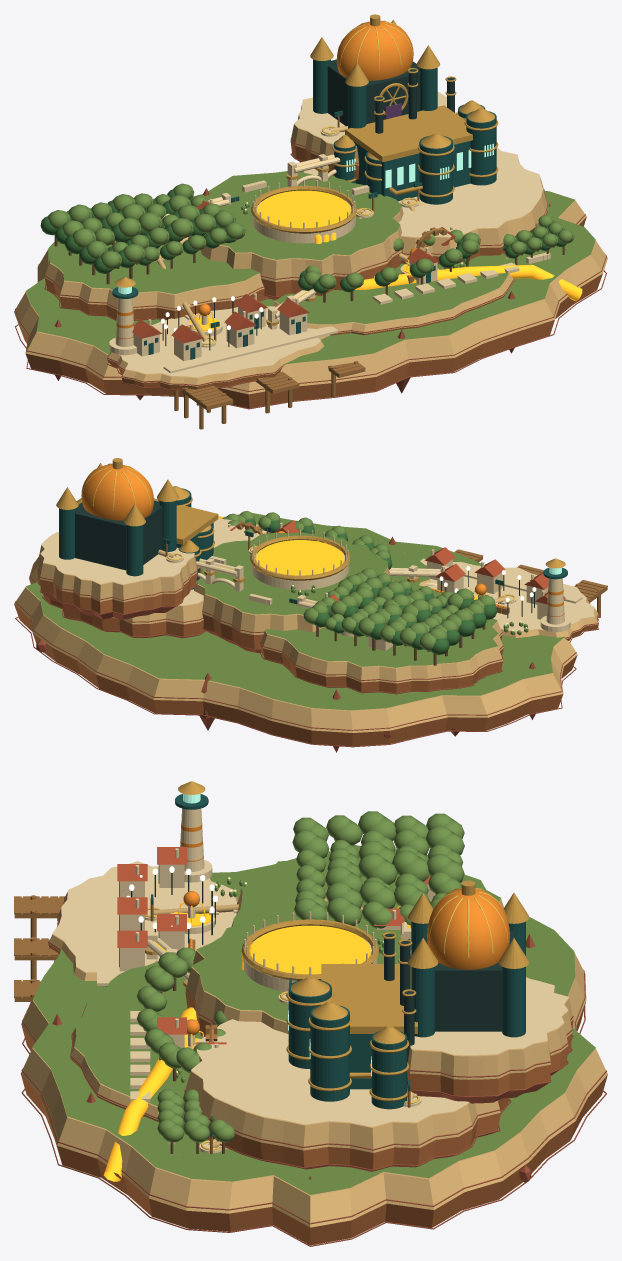
Rendered from imperio-delicia.glb.
3 renders of one model, top to bottom at view 1: azimuth 30°, elevation 25°; view 2: azimuth 150°, elevation 25°; view 3: azimuth 270°, elevation 25°, orthographic. The views are drawn at different scales.
Parts seen in each view (by area): view 1: Great citrus island foundation, Great citrus island foundation turf, Aqueduct heart turf, Refinery foothill turf, Orange delta turf, Terraced orchard, Terraced orchard turf, Aqueduct heart, Harbor terrace turf, Refinery tiled roof, Guina gigantic orange dome, Reservoir orange water (+20 smaller); view 2: Great citrus island foundation, Great citrus island foundation turf, Terraced orchard, Guina crown rock, Aqueduct heart turf, Terraced orchard turf, Guina citadel hall, Aqueduct heart, Guina gigantic orange dome, Refinery foothill, Harbor terrace turf, Guina crown rock turf (+16 smaller); view 3: Great citrus island foundation, Great citrus island foundation turf, Refinery foothill, Refinery foothill turf, Guina crown rock, Orange delta turf, Harbor terrace turf, Guina gigantic orange dome, Aqueduct heart turf, Guina citadel hall, Reservoir orange water, Refinery tiled roof (+19 smaller).
Part boxes in pixels (x1,y1,x2,y2): Great citrus island foundation: (14, 200, 607, 408); Great citrus island foundation turf: (25, 171, 595, 364); Aqueduct heart turf: (204, 172, 401, 260); Refinery foothill turf: (304, 147, 542, 236); Orange delta turf: (275, 253, 514, 324); Terraced orchard: (44, 258, 267, 320); Terraced orchard turf: (50, 241, 260, 293); Aqueduct heart: (188, 206, 403, 299); Harbor terrace turf: (121, 306, 321, 377); Refinery tiled roof: (345, 105, 472, 162); Guina gigantic orange dome: (336, 21, 413, 80); Reservoir orange water: (257, 190, 350, 228); Great citrus island foundation: (14, 556, 577, 746); Great citrus island foundation turf: (25, 513, 564, 710); Terraced orchard: (260, 621, 503, 694); Guina crown rock: (37, 544, 197, 619); Aqueduct heart turf: (196, 532, 387, 615); Terraced orchard turf: (265, 583, 498, 667); Guina citadel hall: (75, 500, 162, 570); Aqueduct heart: (194, 563, 392, 652); Guina gigantic orange dome: (81, 464, 153, 520); Refinery foothill: (43, 594, 205, 638); Harbor terrace turf: (424, 561, 594, 631); Guina crown rock turf: (40, 532, 194, 584); Great citrus island foundation: (20, 953, 607, 1245); Great citrus island foundation turf: (32, 858, 595, 1194); Refinery foothill: (184, 1051, 509, 1171); Refinery foothill turf: (191, 1019, 468, 1126); Guina crown rock: (407, 986, 573, 1103); Orange delta turf: (74, 961, 202, 1106); Harbor terrace turf: (52, 861, 236, 977); Guina gigantic orange dome: (427, 888, 509, 969); Aqueduct heart turf: (191, 908, 411, 1021); Guina citadel hall: (423, 931, 513, 1031); Reservoir orange water: (250, 925, 370, 974); Refinery tiled roof: (321, 964, 417, 1033).
Bounding box in the file's own units: 42.5 × 16.67 × 30.04.
